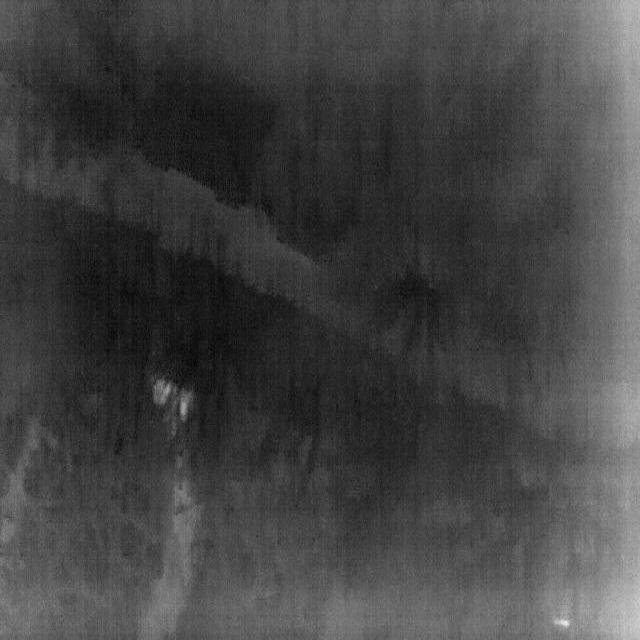deer: (554, 618, 570, 628)
